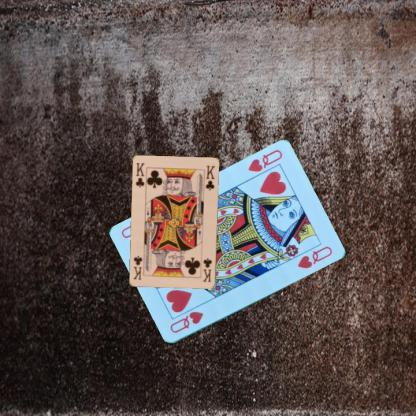Kc: (201, 255, 213, 283), (134, 161, 146, 189)
Qh: (245, 147, 284, 174), (167, 309, 205, 335)
